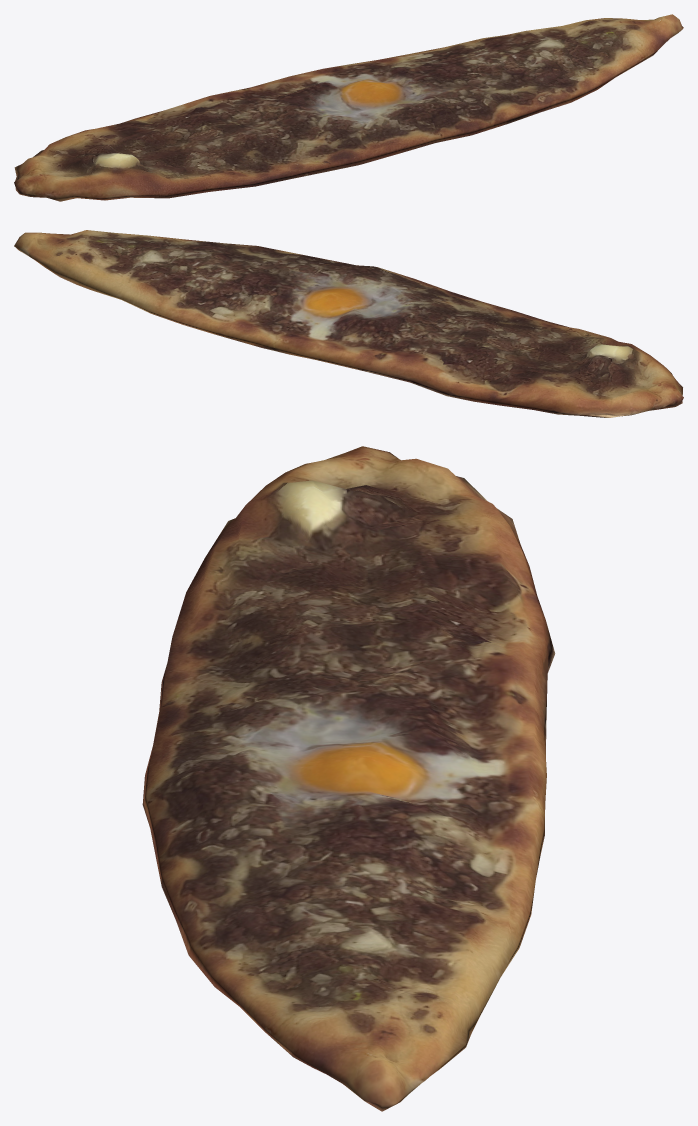
File: pide_turkish_pizza_kymal.glb
3 renders of one model, top to bottom at view 1: azimuth 30°, elevation 25°; view 2: azimuth 150°, elevation 25°; view 3: azimuth 270°, elevation 25°, orthographic. The views are drawn at different scales.
Parts seen in each view (by area): view 1: Object_2; view 2: Object_2; view 3: Object_2.
Boxes of the visible parts, left/top/right/bottom form: Object_2: left=14, top=14, right=683, bottom=201; Object_2: left=14, top=230, right=683, bottom=417; Object_2: left=142, top=446, right=555, bottom=1111.
Bounding box in the file's own units: 34.67 × 1.6 × 9.32.
Materials: 1 (1 with a texture image).
